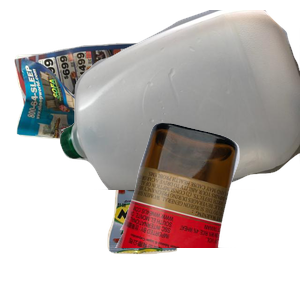glass: (113, 120, 300, 300)
paper: (12, 31, 196, 204)
plastic: (60, 10, 300, 190)
trash: (105, 152, 280, 300)
